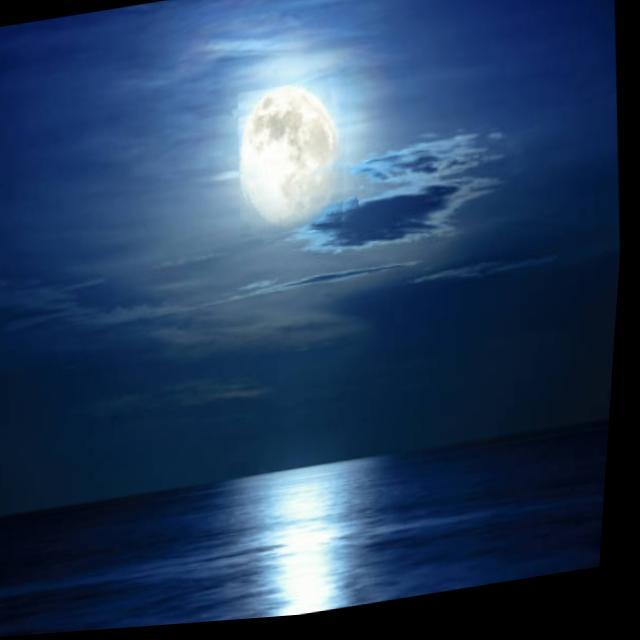moon: (232, 79, 364, 248)
